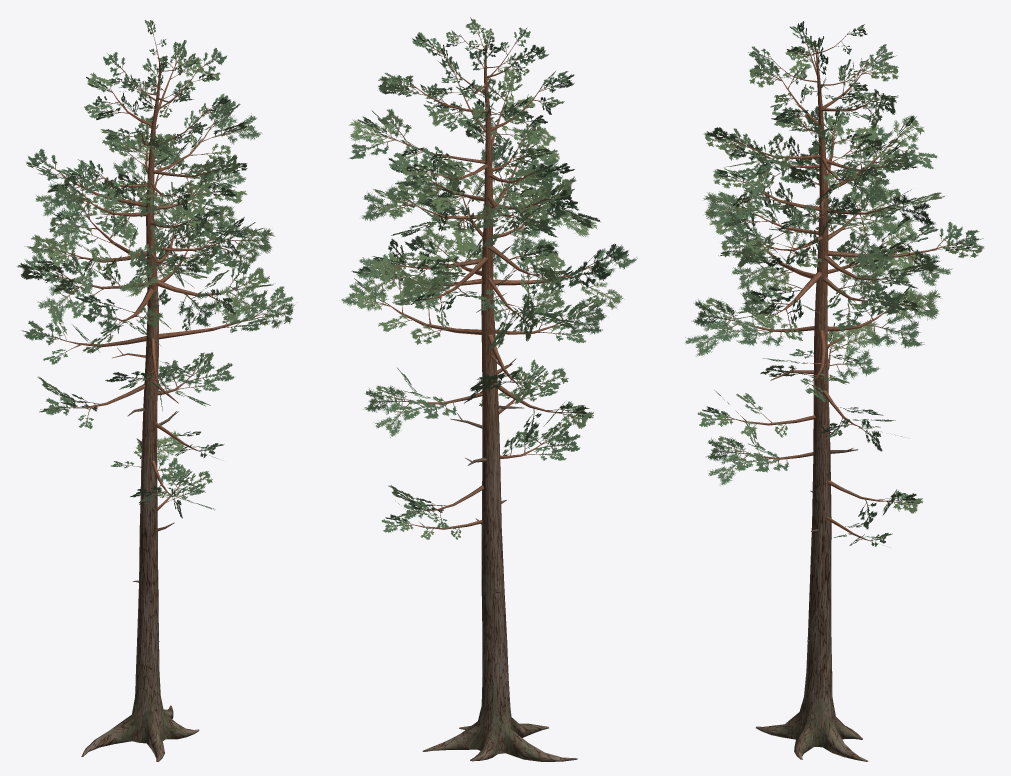
File: pine_tall.glb
3 renders of one model, left to right at view 1: azimuth 30°, elevation 25°; view 2: azimuth 150°, elevation 25°; view 3: azimuth 270°, elevation 25°, orthographic. The views are drawn at different scales.
Visible parts, largest first — view 1: Pine_Tall; view 2: Pine_Tall; view 3: Pine_Tall.
Boxes of the visible parts, box(x1,y1,x2,y2) form: Pine_Tall: box(17, 20, 295, 761); Pine_Tall: box(339, 17, 637, 761); Pine_Tall: box(685, 21, 984, 761).
Size of the model in its own units: 5.43 by 14 by 5.65.
2 materials, 2 textured.
